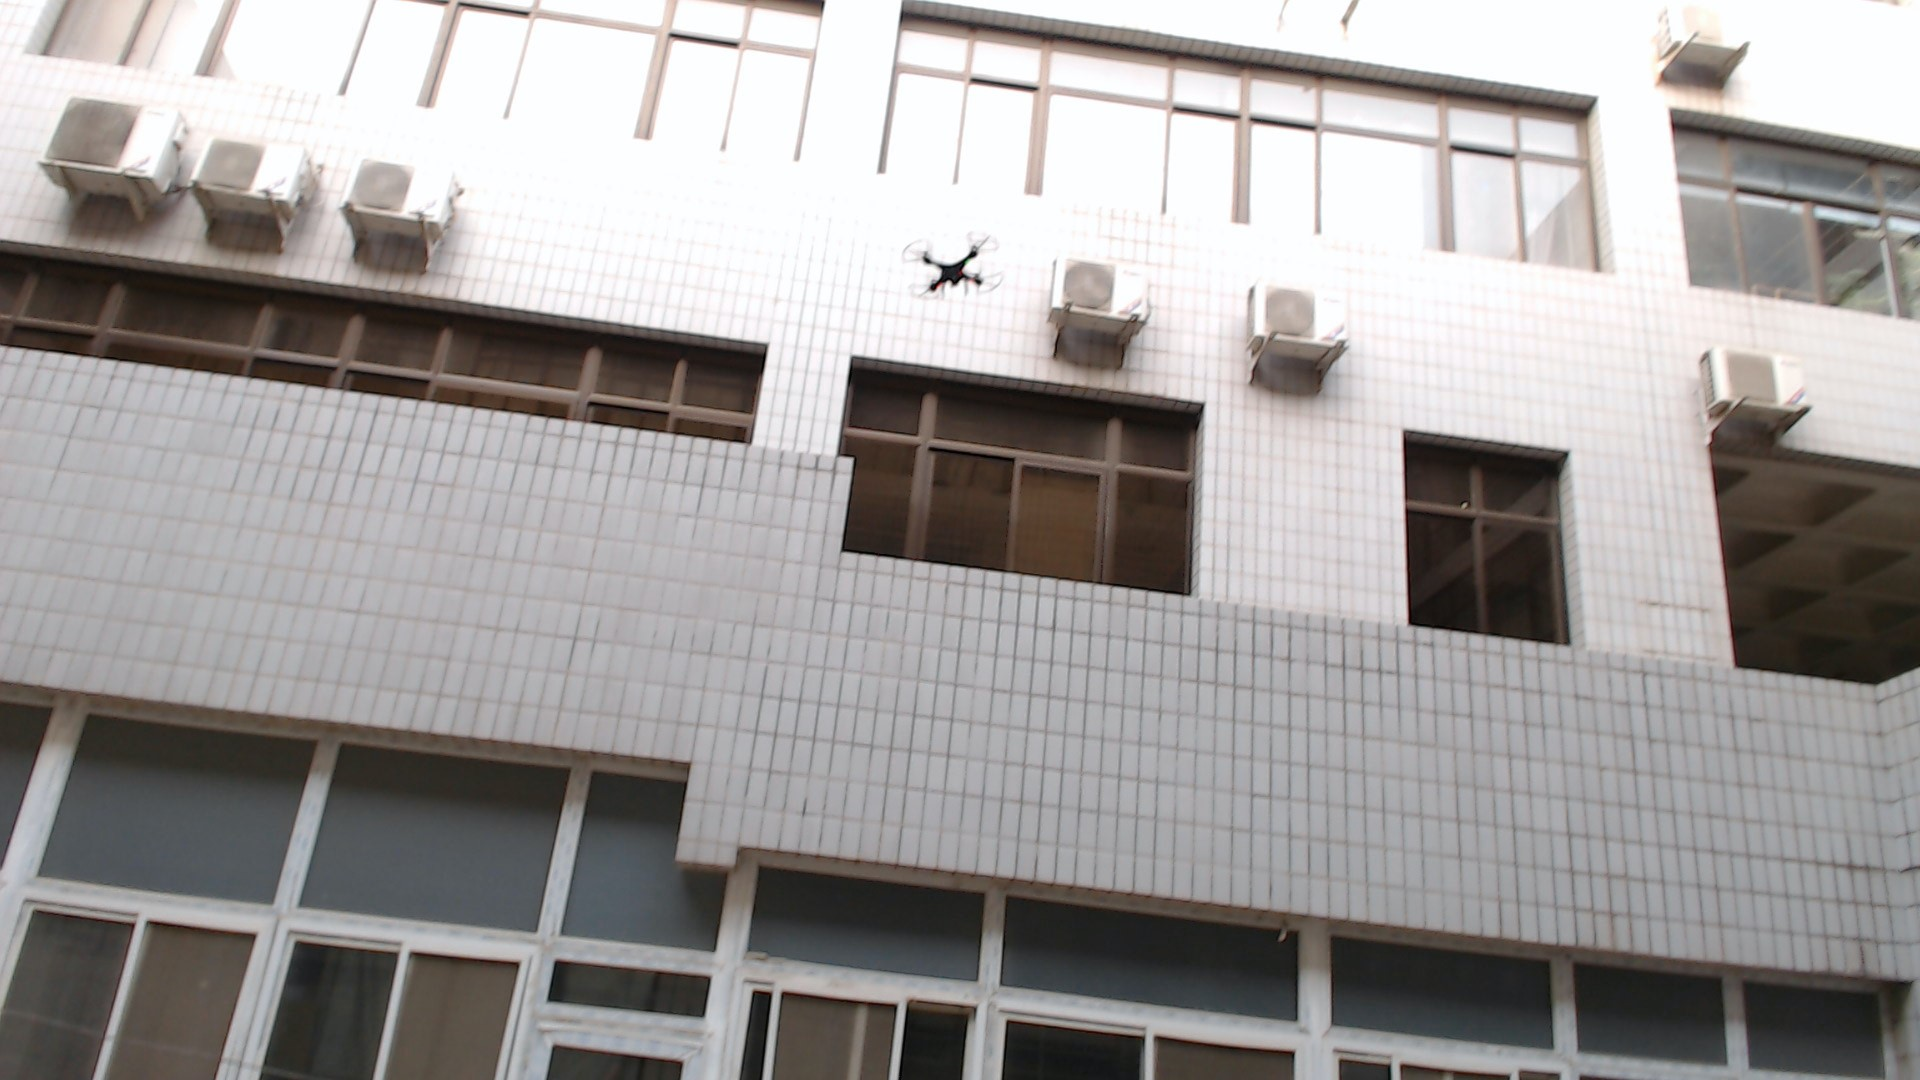drone: (876, 202, 1035, 324)
